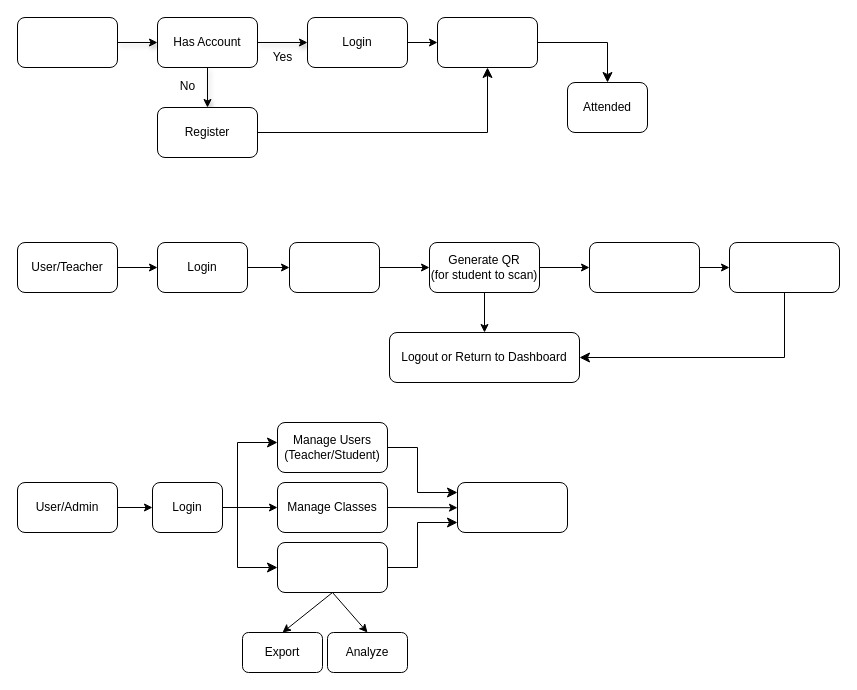
The diagram is 857 pixels wide and 690 high, and some of its shapes have lost their labels. Each missing label, with the centre of its shape:
Logout: point (512, 507)
Monitor Attendance: point (644, 267)
Scan QR: point (487, 42)
Select Session: point (334, 267)
Submit/Confirm Attendance: point (784, 267)
User/Student: point (67, 42)
View Attendance: point (332, 567)
